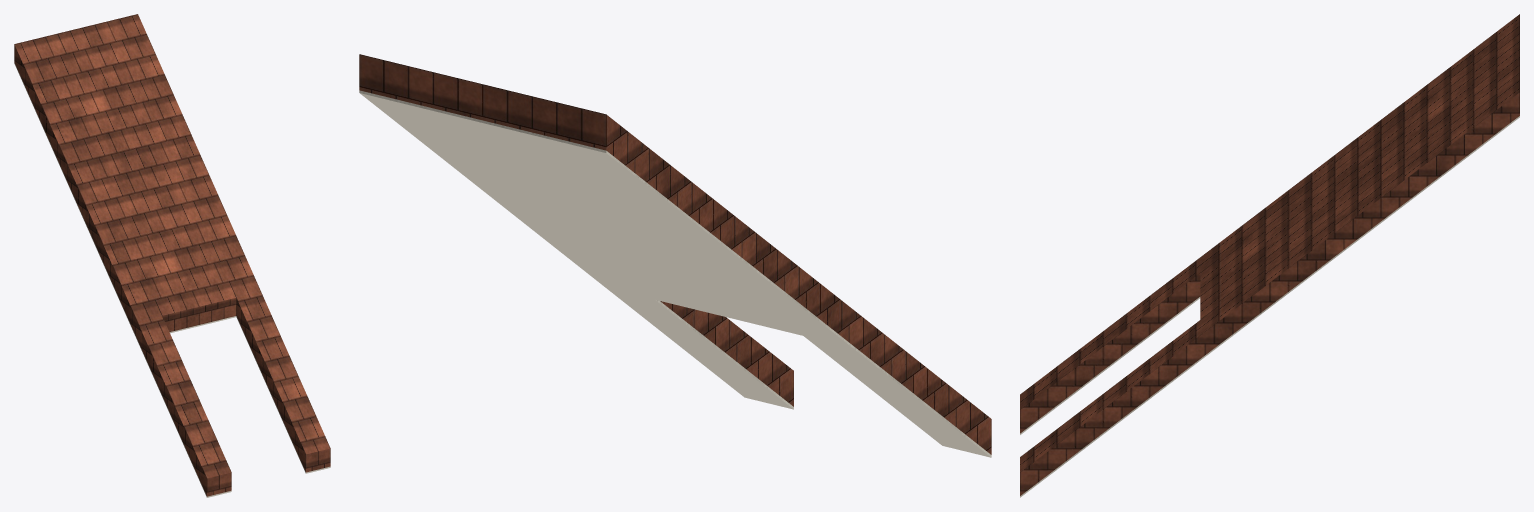
File: roof_slope_dormer.glb
3 renders of one model, left to right at view 1: azimuth 30°, elevation 25°; view 2: azimuth 150°, elevation 25°; view 3: azimuth 270°, elevation 25°, orthographic. The views are drawn at different scales.
Visible parts, largest first — view 1: roof_slope_dormer_roof_tiles, roof_slope_dormer_plaster; view 2: roof_slope_dormer_plaster, roof_slope_dormer_roof_tiles; view 3: roof_slope_dormer_roof_tiles, roof_slope_dormer_plaster.
Boxes of the visible parts, left/top/right/bottom form: roof_slope_dormer_roof_tiles: left=14, top=14, right=330, bottom=496; roof_slope_dormer_plaster: left=14, top=63, right=330, bottom=497; roof_slope_dormer_plaster: left=359, top=90, right=991, bottom=457; roof_slope_dormer_roof_tiles: left=359, top=54, right=991, bottom=454; roof_slope_dormer_roof_tiles: left=1020, top=14, right=1519, bottom=495; roof_slope_dormer_plaster: left=1020, top=116, right=1519, bottom=497.
Size of the model in its own units: 2 by 4.84 by 5.4.
2 materials, 2 textured.
